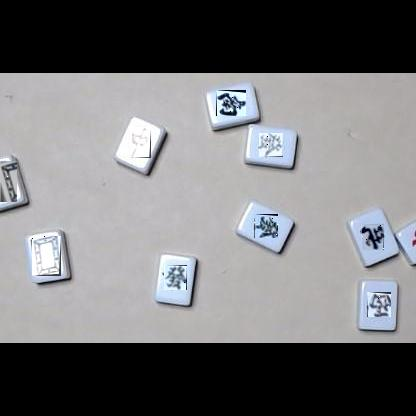2z: (216, 90, 246, 116)
3z: (367, 292, 391, 317)
4z: (361, 224, 384, 250)
5z: (32, 236, 61, 276), (0, 161, 17, 202)
6z: (259, 133, 283, 157), (254, 214, 278, 238), (164, 265, 187, 290)
7z: (130, 127, 151, 158)
